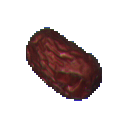gd: (20, 19, 106, 108)
